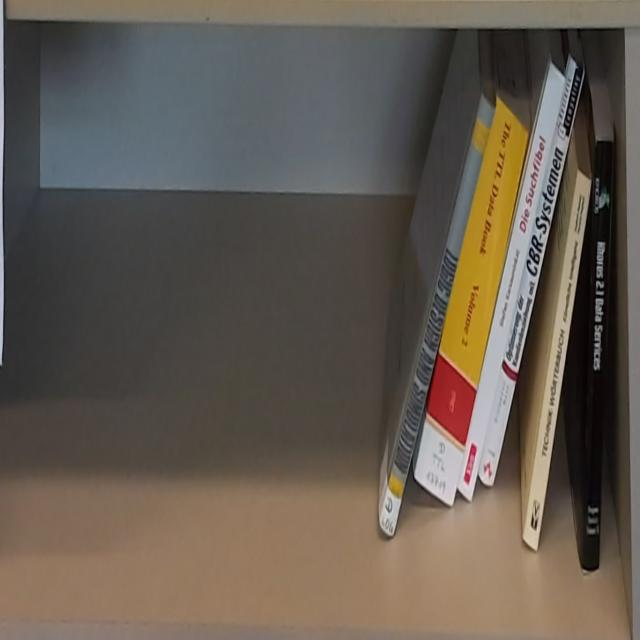Book Spine: (379, 90, 497, 536), (457, 61, 567, 504), (414, 96, 529, 511), (479, 56, 586, 489), (523, 168, 593, 554), (582, 141, 615, 570)
